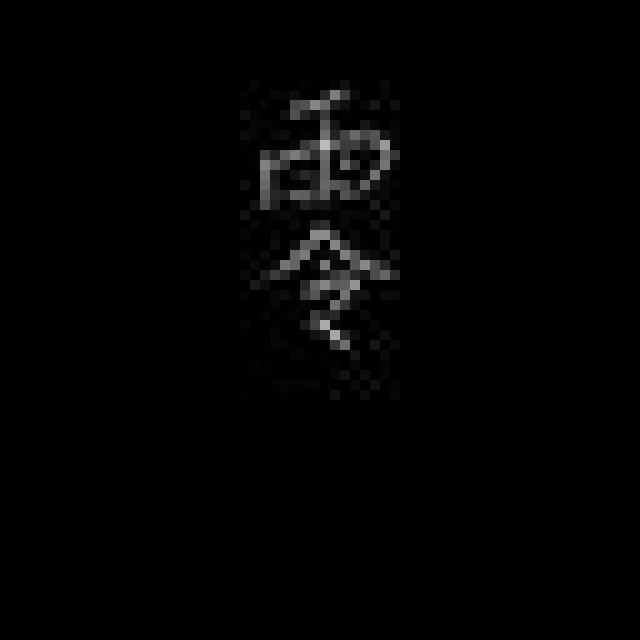0 -zero-: (245, 83, 405, 364)
